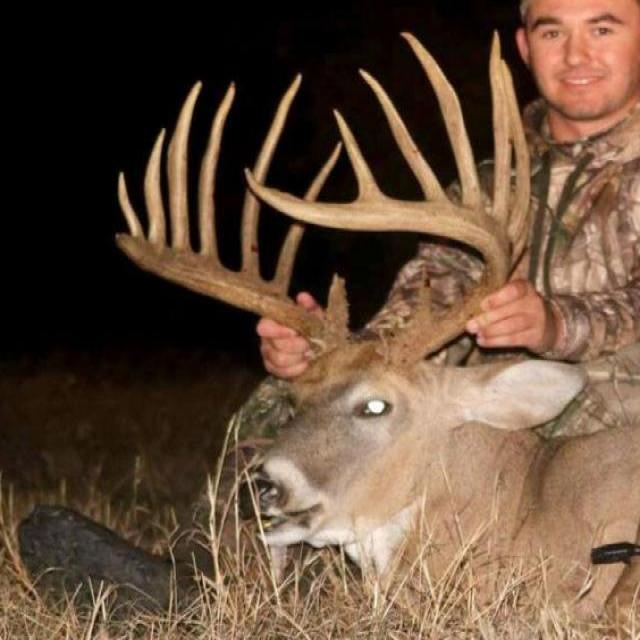deer: (106, 31, 626, 602)
